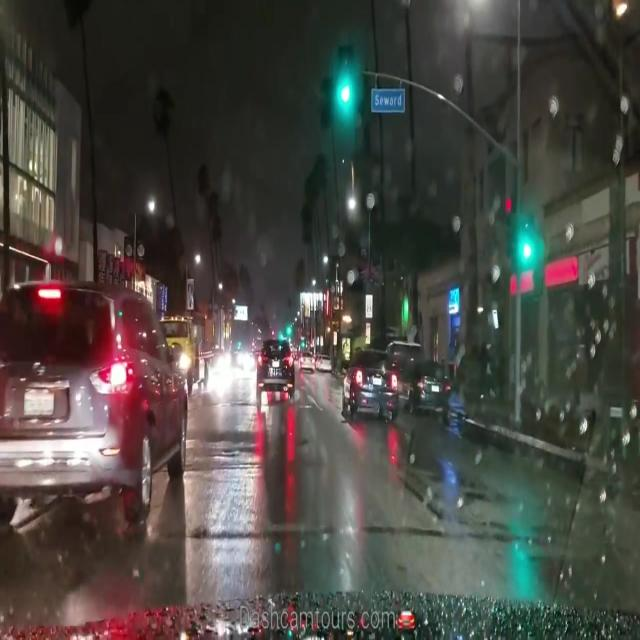Car: (2, 279, 186, 516), (342, 345, 393, 415), (254, 337, 291, 398), (403, 357, 446, 407)
